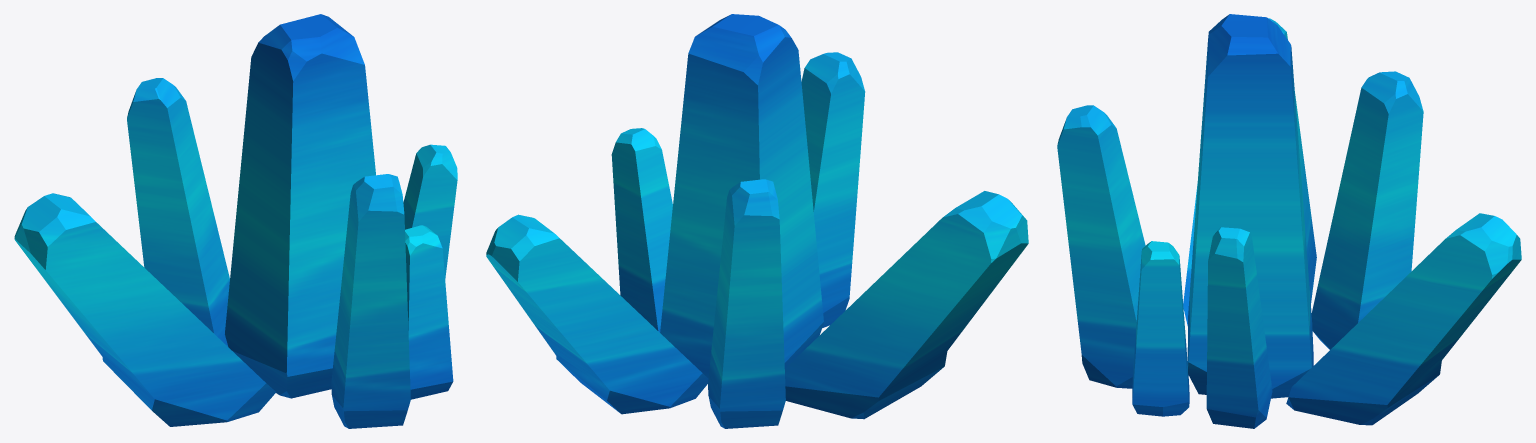
The model's file is Crystal5.obj.
3 views of the same model, side by side, from view 1: azimuth 30°, elevation 25°; view 2: azimuth 150°, elevation 25°; view 3: azimuth 270°, elevation 25° (orthographic). The views are drawn at different scales.
Parts seen in each view (by area): view 1: obj1; view 2: obj1; view 3: obj1.
Part boxes in pixels (x1,y1,x2,y2): obj1: (14, 14, 457, 428); obj1: (486, 14, 1028, 428); obj1: (1057, 14, 1521, 428).
Bounding box in the file's own units: 10.19 × 7.96 × 9.65.
1 material, 1 textured.
